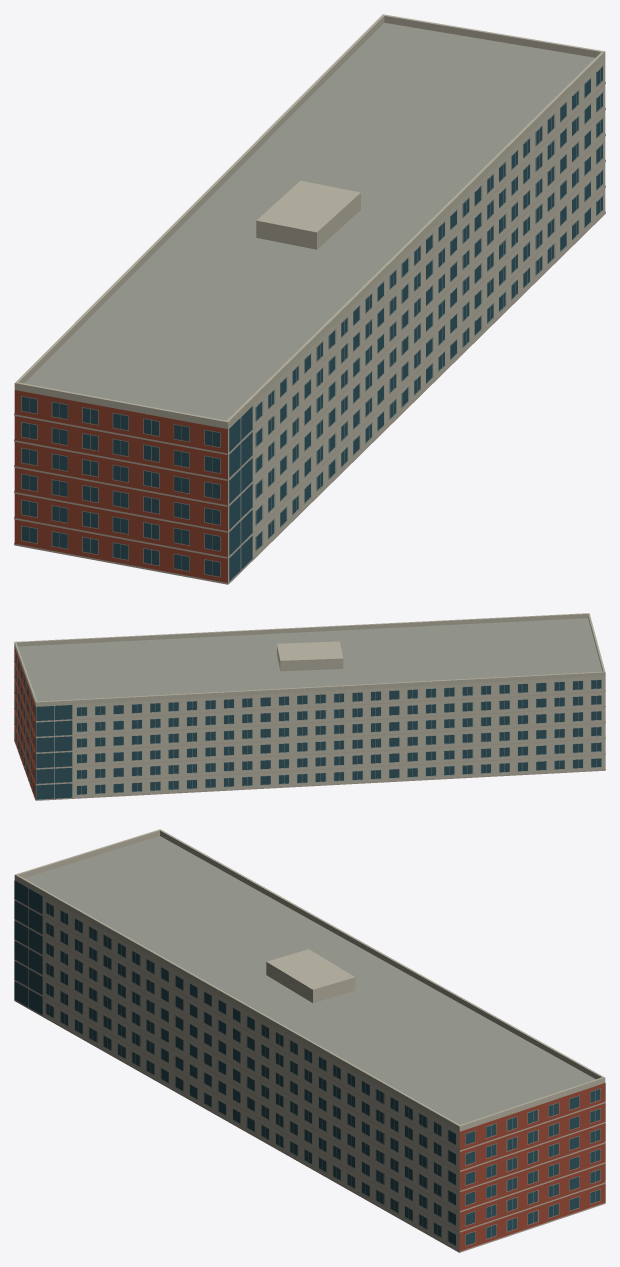
The picture shows the model from 3 angles, top to bottom: view 1: azimuth 30°, elevation 25°; view 2: azimuth 150°, elevation 25°; view 3: azimuth 270°, elevation 25°; orthographic projection. The views are drawn at different scales.
Parts seen in each view (by area): view 1: B16_teaching, V05_B16_facade, B16_teaching_parapet, B16_teaching_plant; view 2: B16_teaching, V05_B16_facade, B16_teaching_parapet, B16_teaching_plant; view 3: B16_teaching, V05_B16_facade, B16_teaching_parapet, B16_teaching_plant.
Boxes of the visible parts, bbox=[...] form: B16_teaching: bbox=[14, 22, 605, 584]; V05_B16_facade: bbox=[14, 65, 605, 584]; B16_teaching_parapet: bbox=[14, 14, 605, 428]; B16_teaching_plant: bbox=[256, 180, 360, 249]; B16_teaching: bbox=[14, 618, 605, 800]; V05_B16_facade: bbox=[14, 652, 605, 800]; B16_teaching_parapet: bbox=[14, 613, 605, 706]; B16_teaching_plant: bbox=[277, 641, 343, 671]; B16_teaching: bbox=[14, 836, 605, 1252]; V05_B16_facade: bbox=[14, 880, 605, 1252]; B16_teaching_parapet: bbox=[14, 829, 605, 1131]; B16_teaching_plant: bbox=[266, 949, 355, 1002].
Bounding box in the file's own units: 94.99 × 20 × 79.84.
7 materials, 1 textured.
